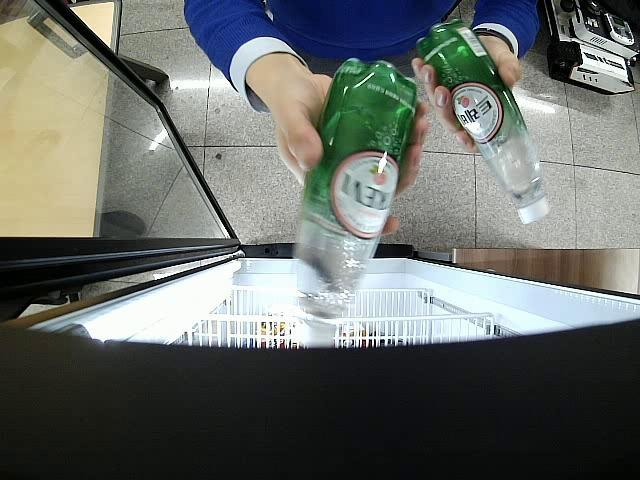18_trevi: (302, 59, 418, 347), (418, 20, 550, 224)
